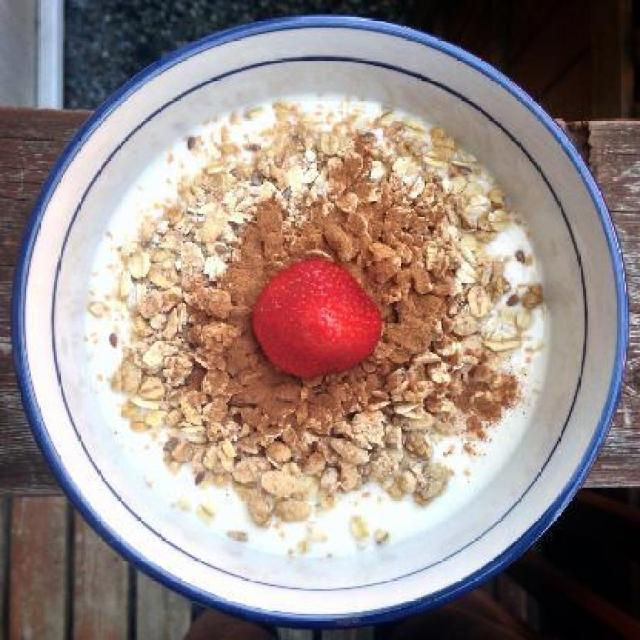Strawberry: (251, 258, 380, 378)
